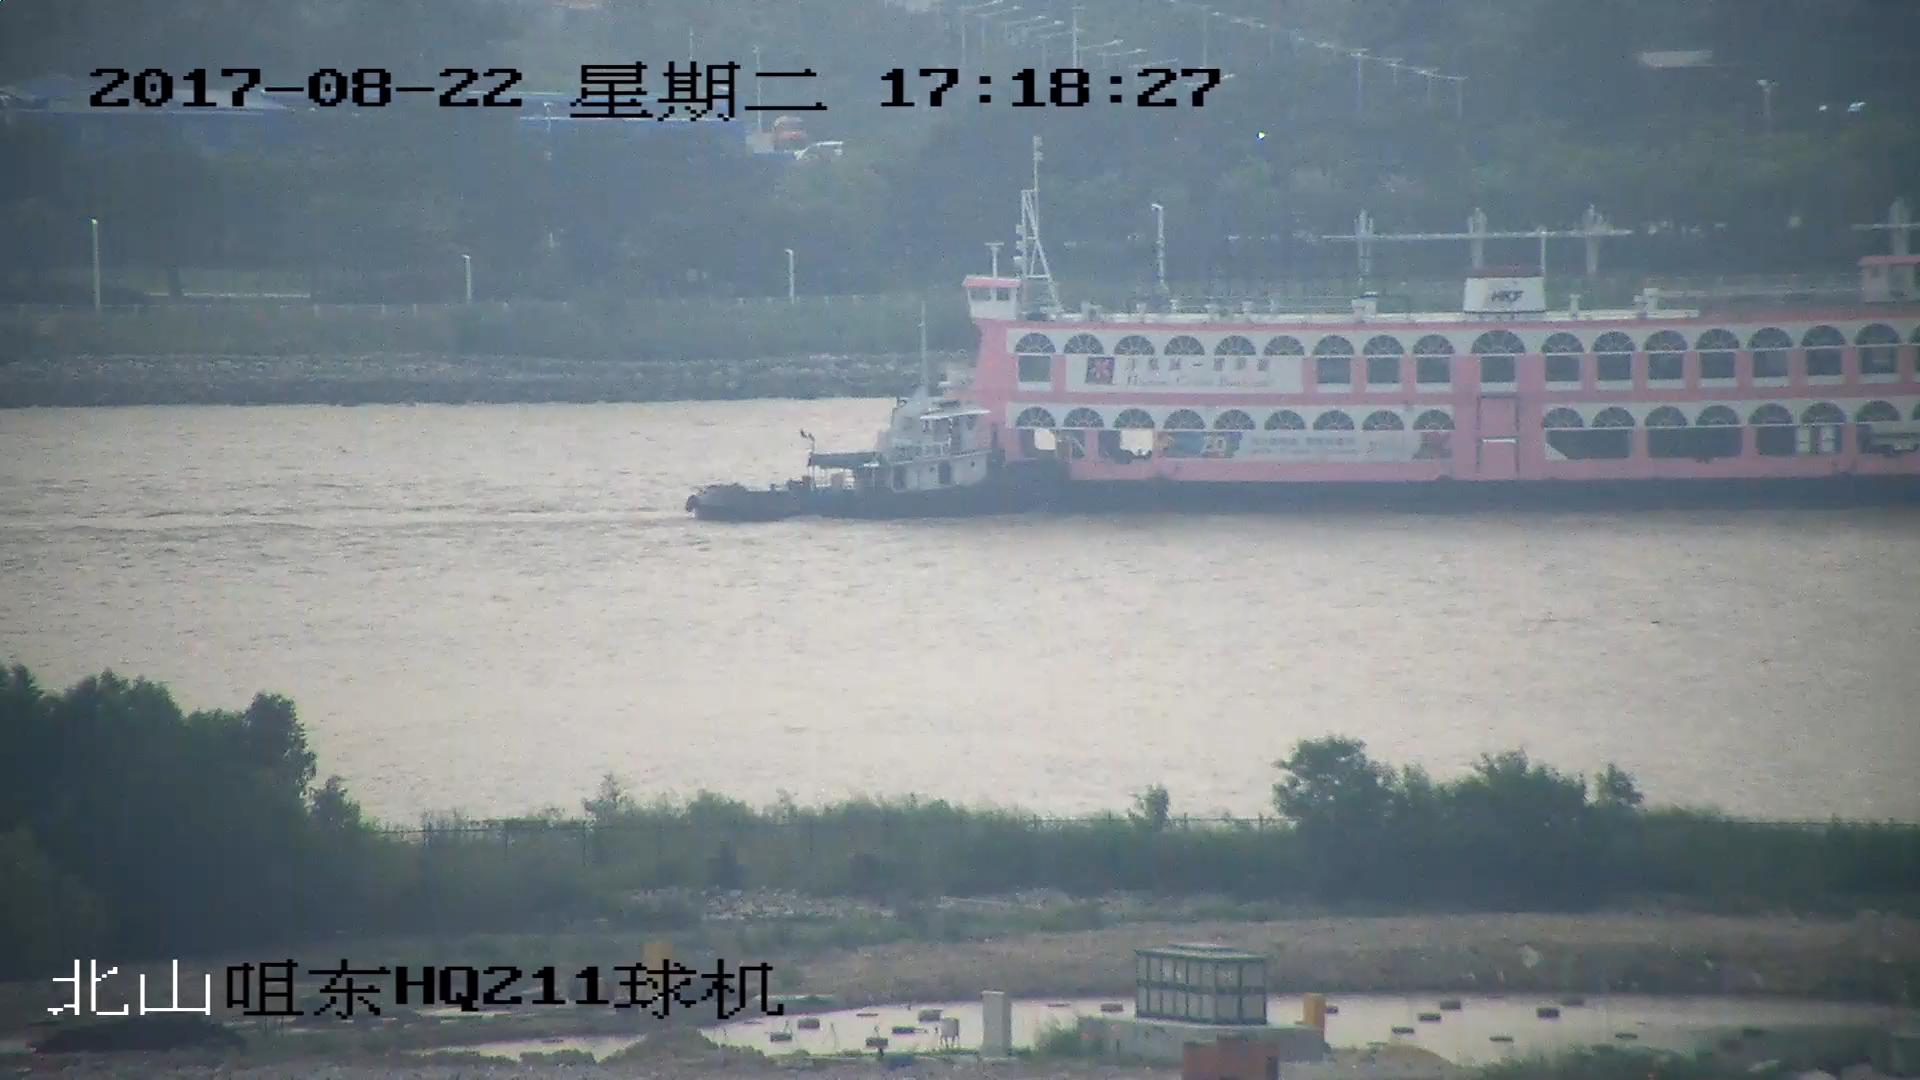passenger ship: (674, 155, 1920, 515)
